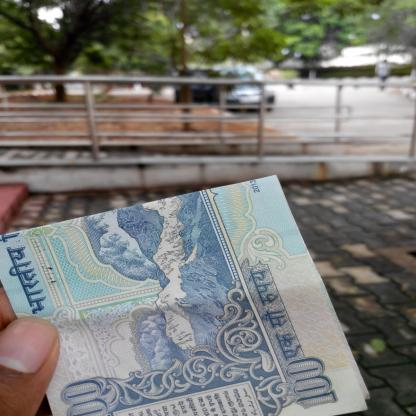Old100Back: (0, 174, 372, 416)
